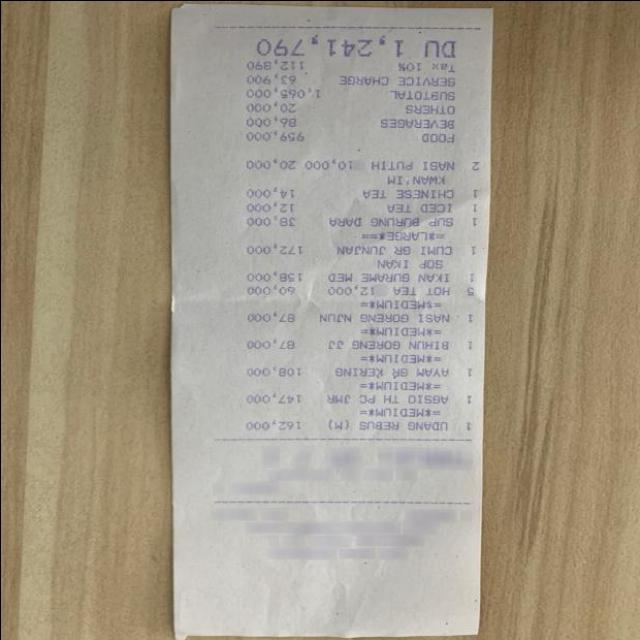kertas: (170, 3, 490, 639)
